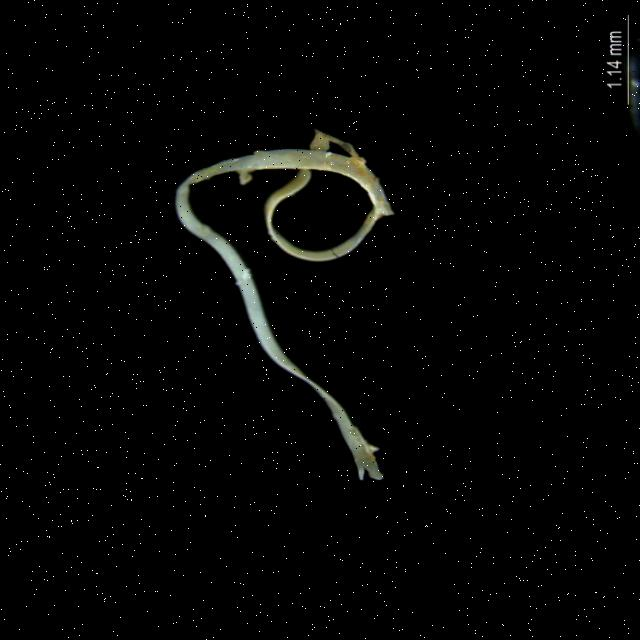Fibre: (164, 122, 406, 480)
